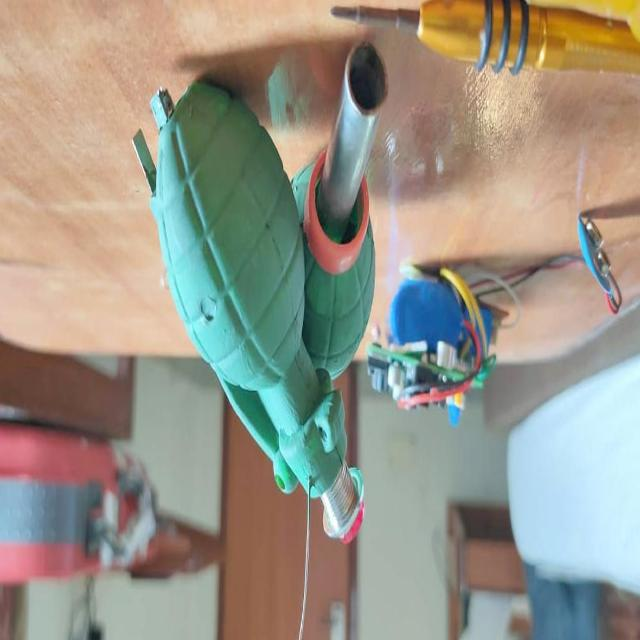grenade: (133, 80, 367, 547), (292, 40, 389, 380)
